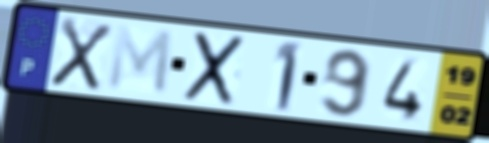1: (272, 39, 305, 114)
4: (379, 56, 426, 124)
9: (320, 47, 374, 119)
M: (105, 23, 176, 98)
X: (46, 14, 116, 93), (179, 29, 249, 108)
